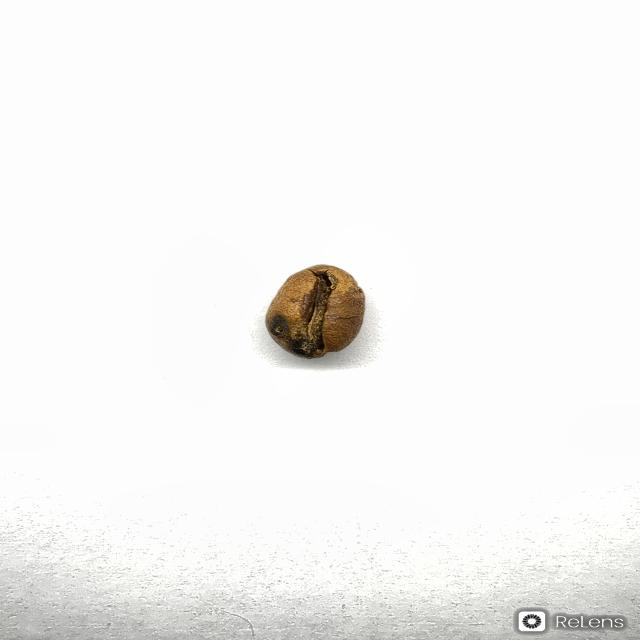Insect damage: (264, 263, 366, 359)
